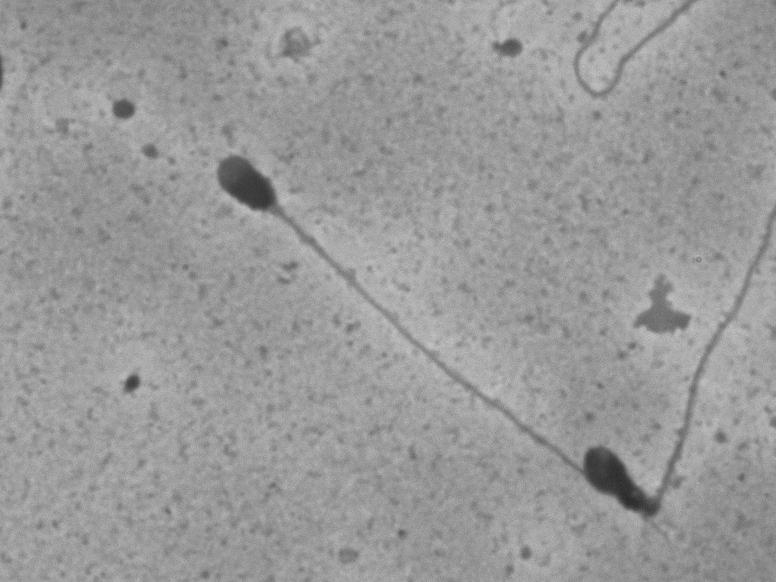Normal: (202, 128, 584, 495)
